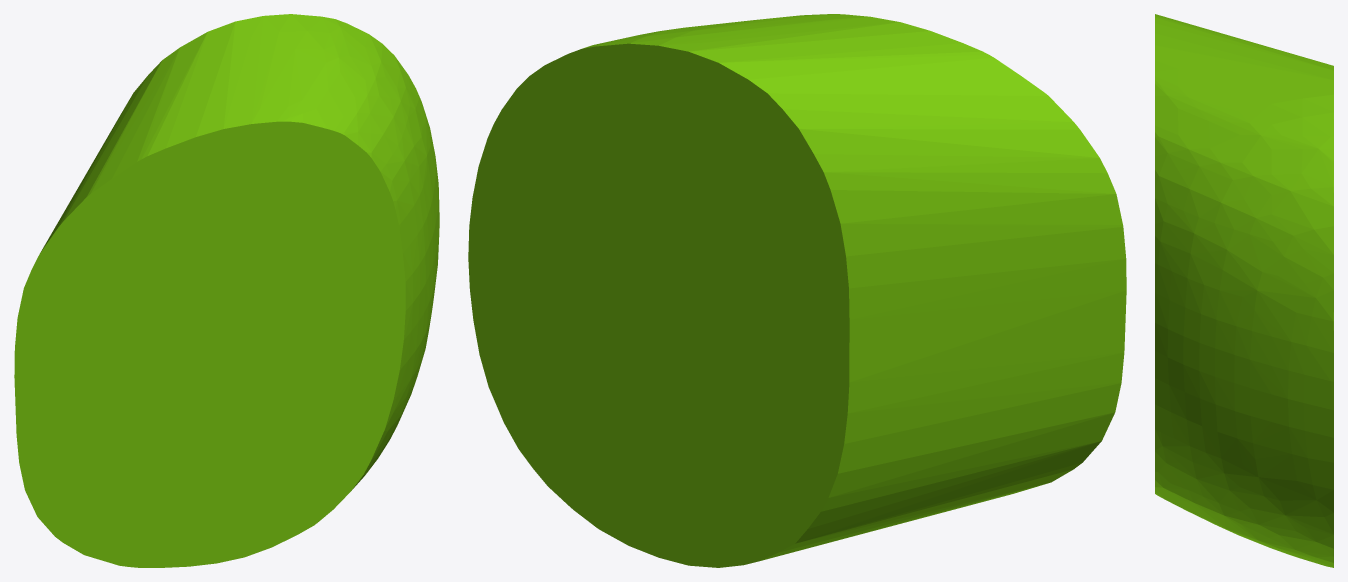
The picture shows the model from 3 angles, left to right: view 1: azimuth 30°, elevation 25°; view 2: azimuth 150°, elevation 25°; view 3: azimuth 270°, elevation 25°; orthographic projection. The views are drawn at different scales.
Bounding box in the file's own units: 0.0316 × 0.0278 × 0.00975.
